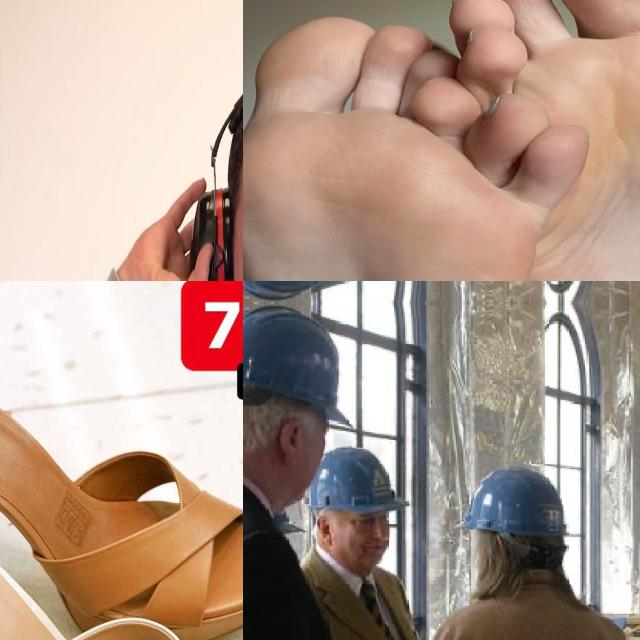Barefoots: (243, 6, 600, 281), (428, 0, 640, 281)
No_Ear-Protection: (280, 418, 303, 463), (315, 513, 336, 549)
No_Glasses: (350, 513, 389, 528)
Sandals: (0, 332, 243, 640), (0, 496, 243, 640)
face_nomask: (340, 527, 389, 571)
head_helmet: (243, 307, 350, 425), (463, 468, 563, 536), (309, 448, 407, 512)
person: (0, 0, 243, 281)
